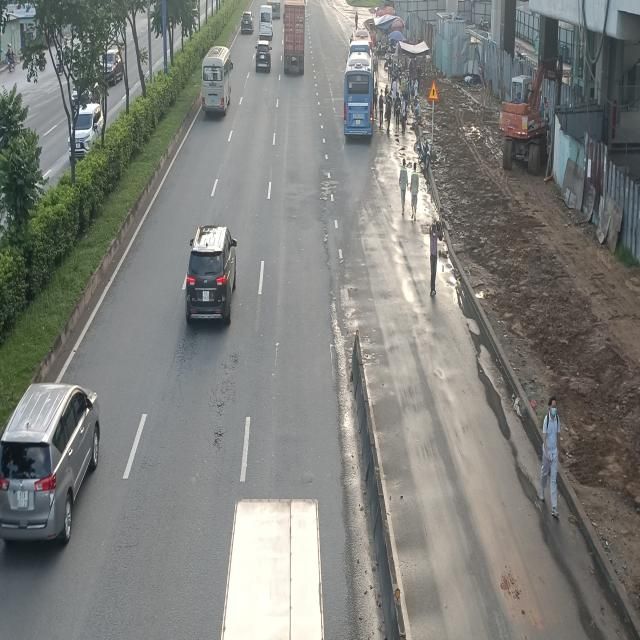car: (2, 383, 103, 548), (185, 226, 240, 327), (256, 42, 273, 74), (241, 12, 255, 36)
coach: (340, 42, 372, 140), (202, 44, 233, 116)
container: (282, 1, 306, 76)
van: (259, 5, 273, 40)
